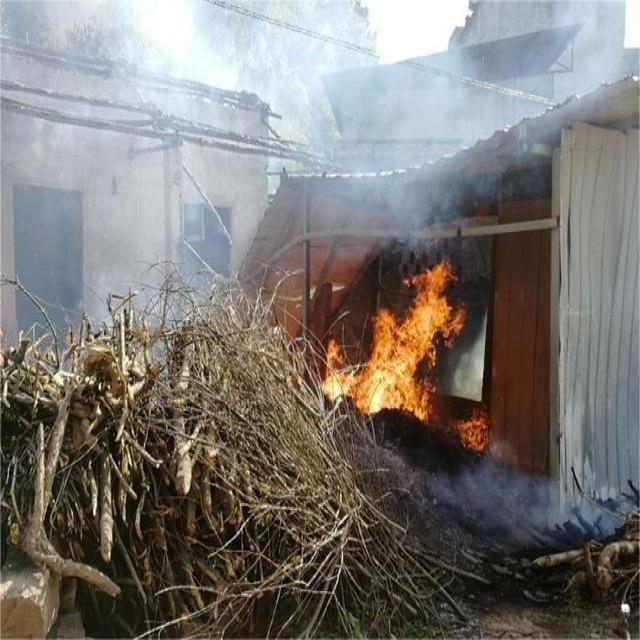Fire: (322, 257, 462, 418)
